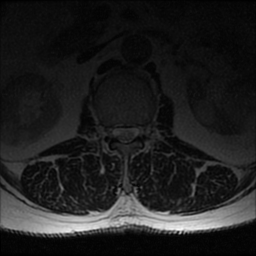CCS_normal: (122, 118, 130, 150)
LFS_normal: (140, 117, 149, 142)
LLS_normal: (130, 117, 139, 147)
RFS_normal: (105, 119, 113, 144)
RLS_normal: (113, 119, 122, 145)
